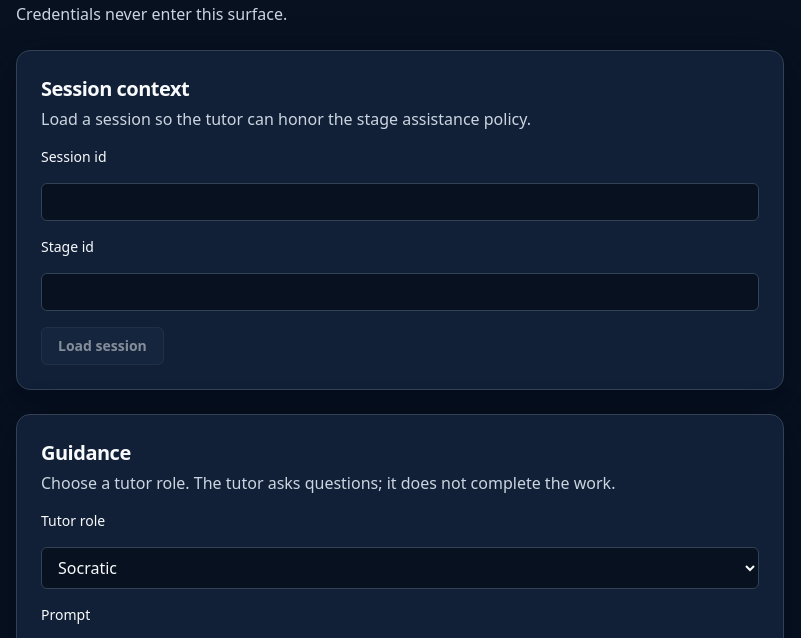
Test: Tutor surface › renders heuristic guidance without storing provider credentials
This screenshot has width=801, height=638.
Type "session-1" into the field labelled "Session id" at [400, 202], box [41,183,759,221]
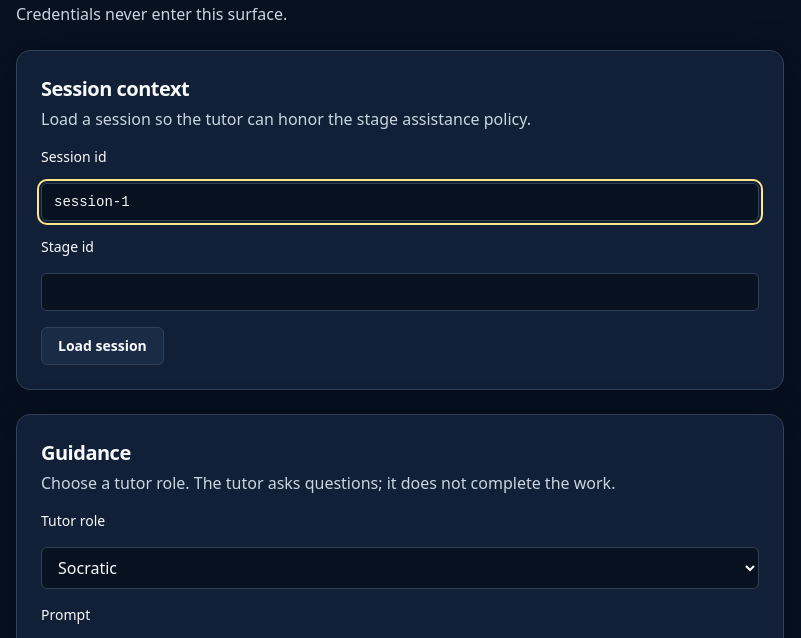
Click the button "Load session" at [102, 346], box [41,327,164,365]
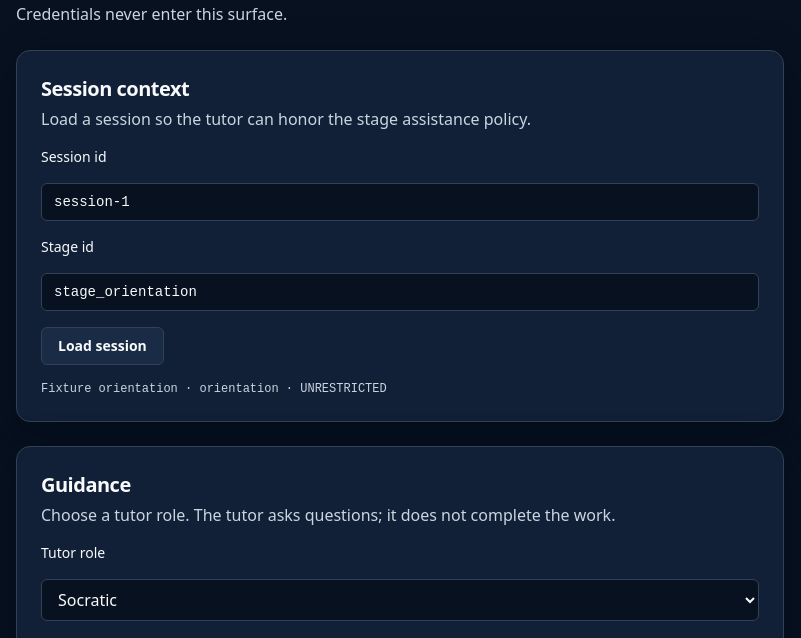
Select "Debugger" in the dropdown labelled "Tutor role" at [400, 600], box [41,579,759,621]
(page scrolled)
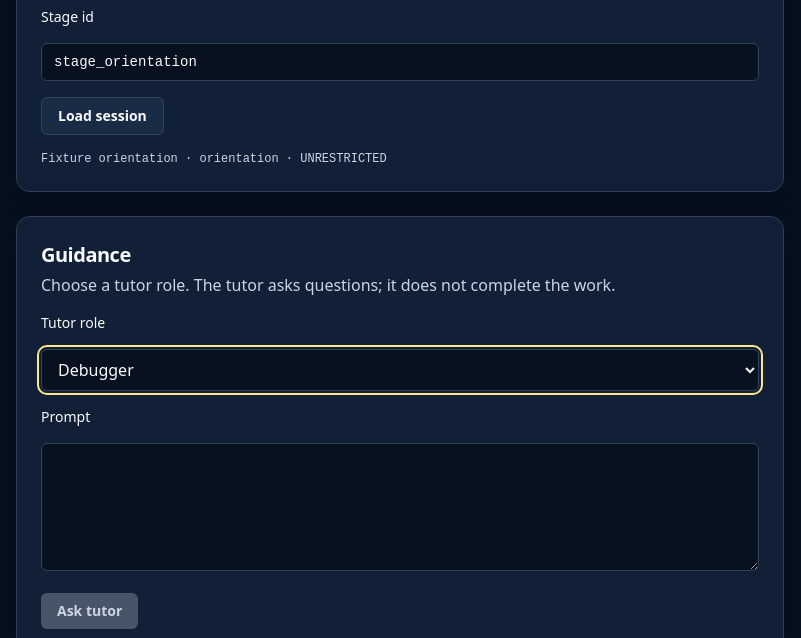
Type "The run failed." into the text box labelled "Prompt" at [400, 507], box [41,443,759,571]
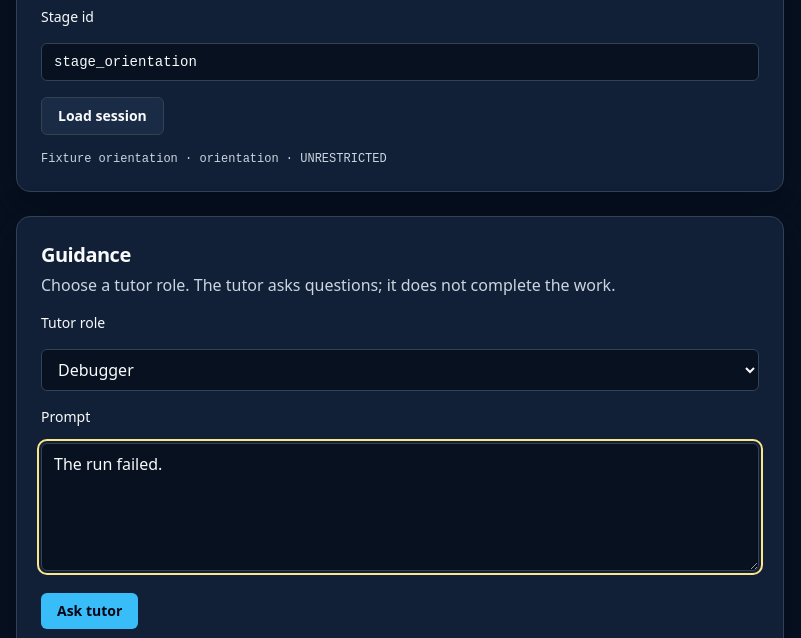
Click the button "Ask tutor" at [90, 611], box [41,593,138,629]
(page scrolled)
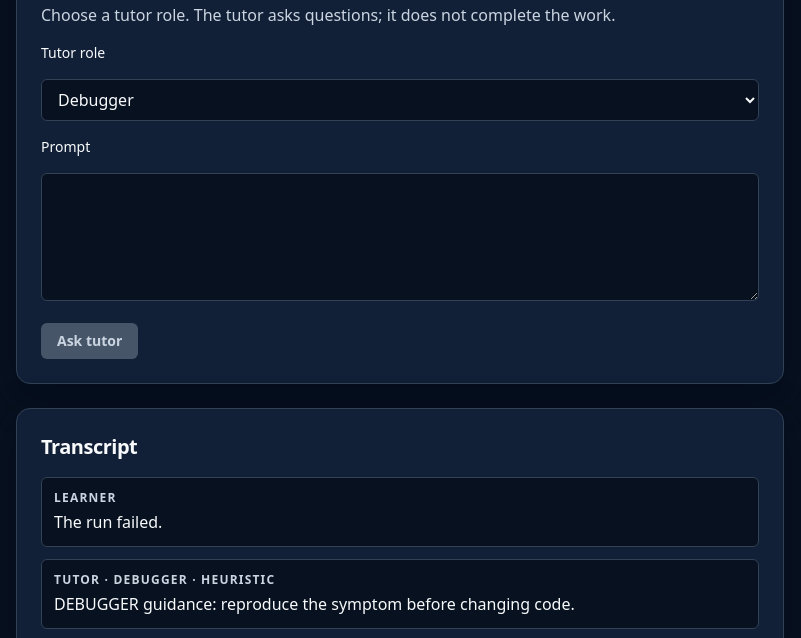
expect the list with test id "tutor-transcript" shows "The run failed.": met, box [54,511,162,533]
expect the list with test id "tutor-transcript" shows "reproduce the symptom": met, box [54,593,575,615]
expect the list with test id "tutor-transcript" shows "DEBUGGER": met, box [100,571,275,588]
